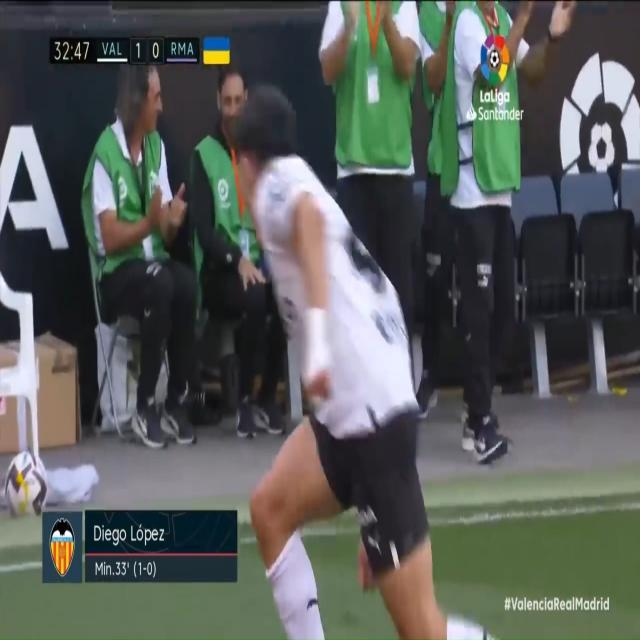player: (225, 83, 498, 640)
